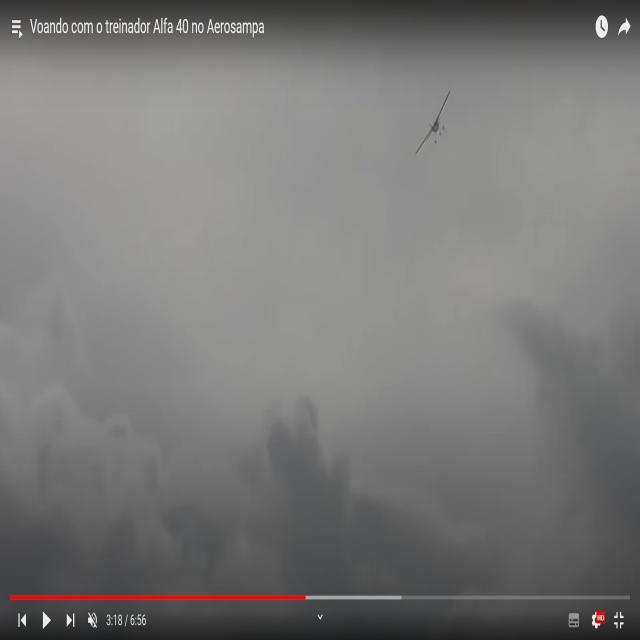iha: (414, 54, 453, 57)
